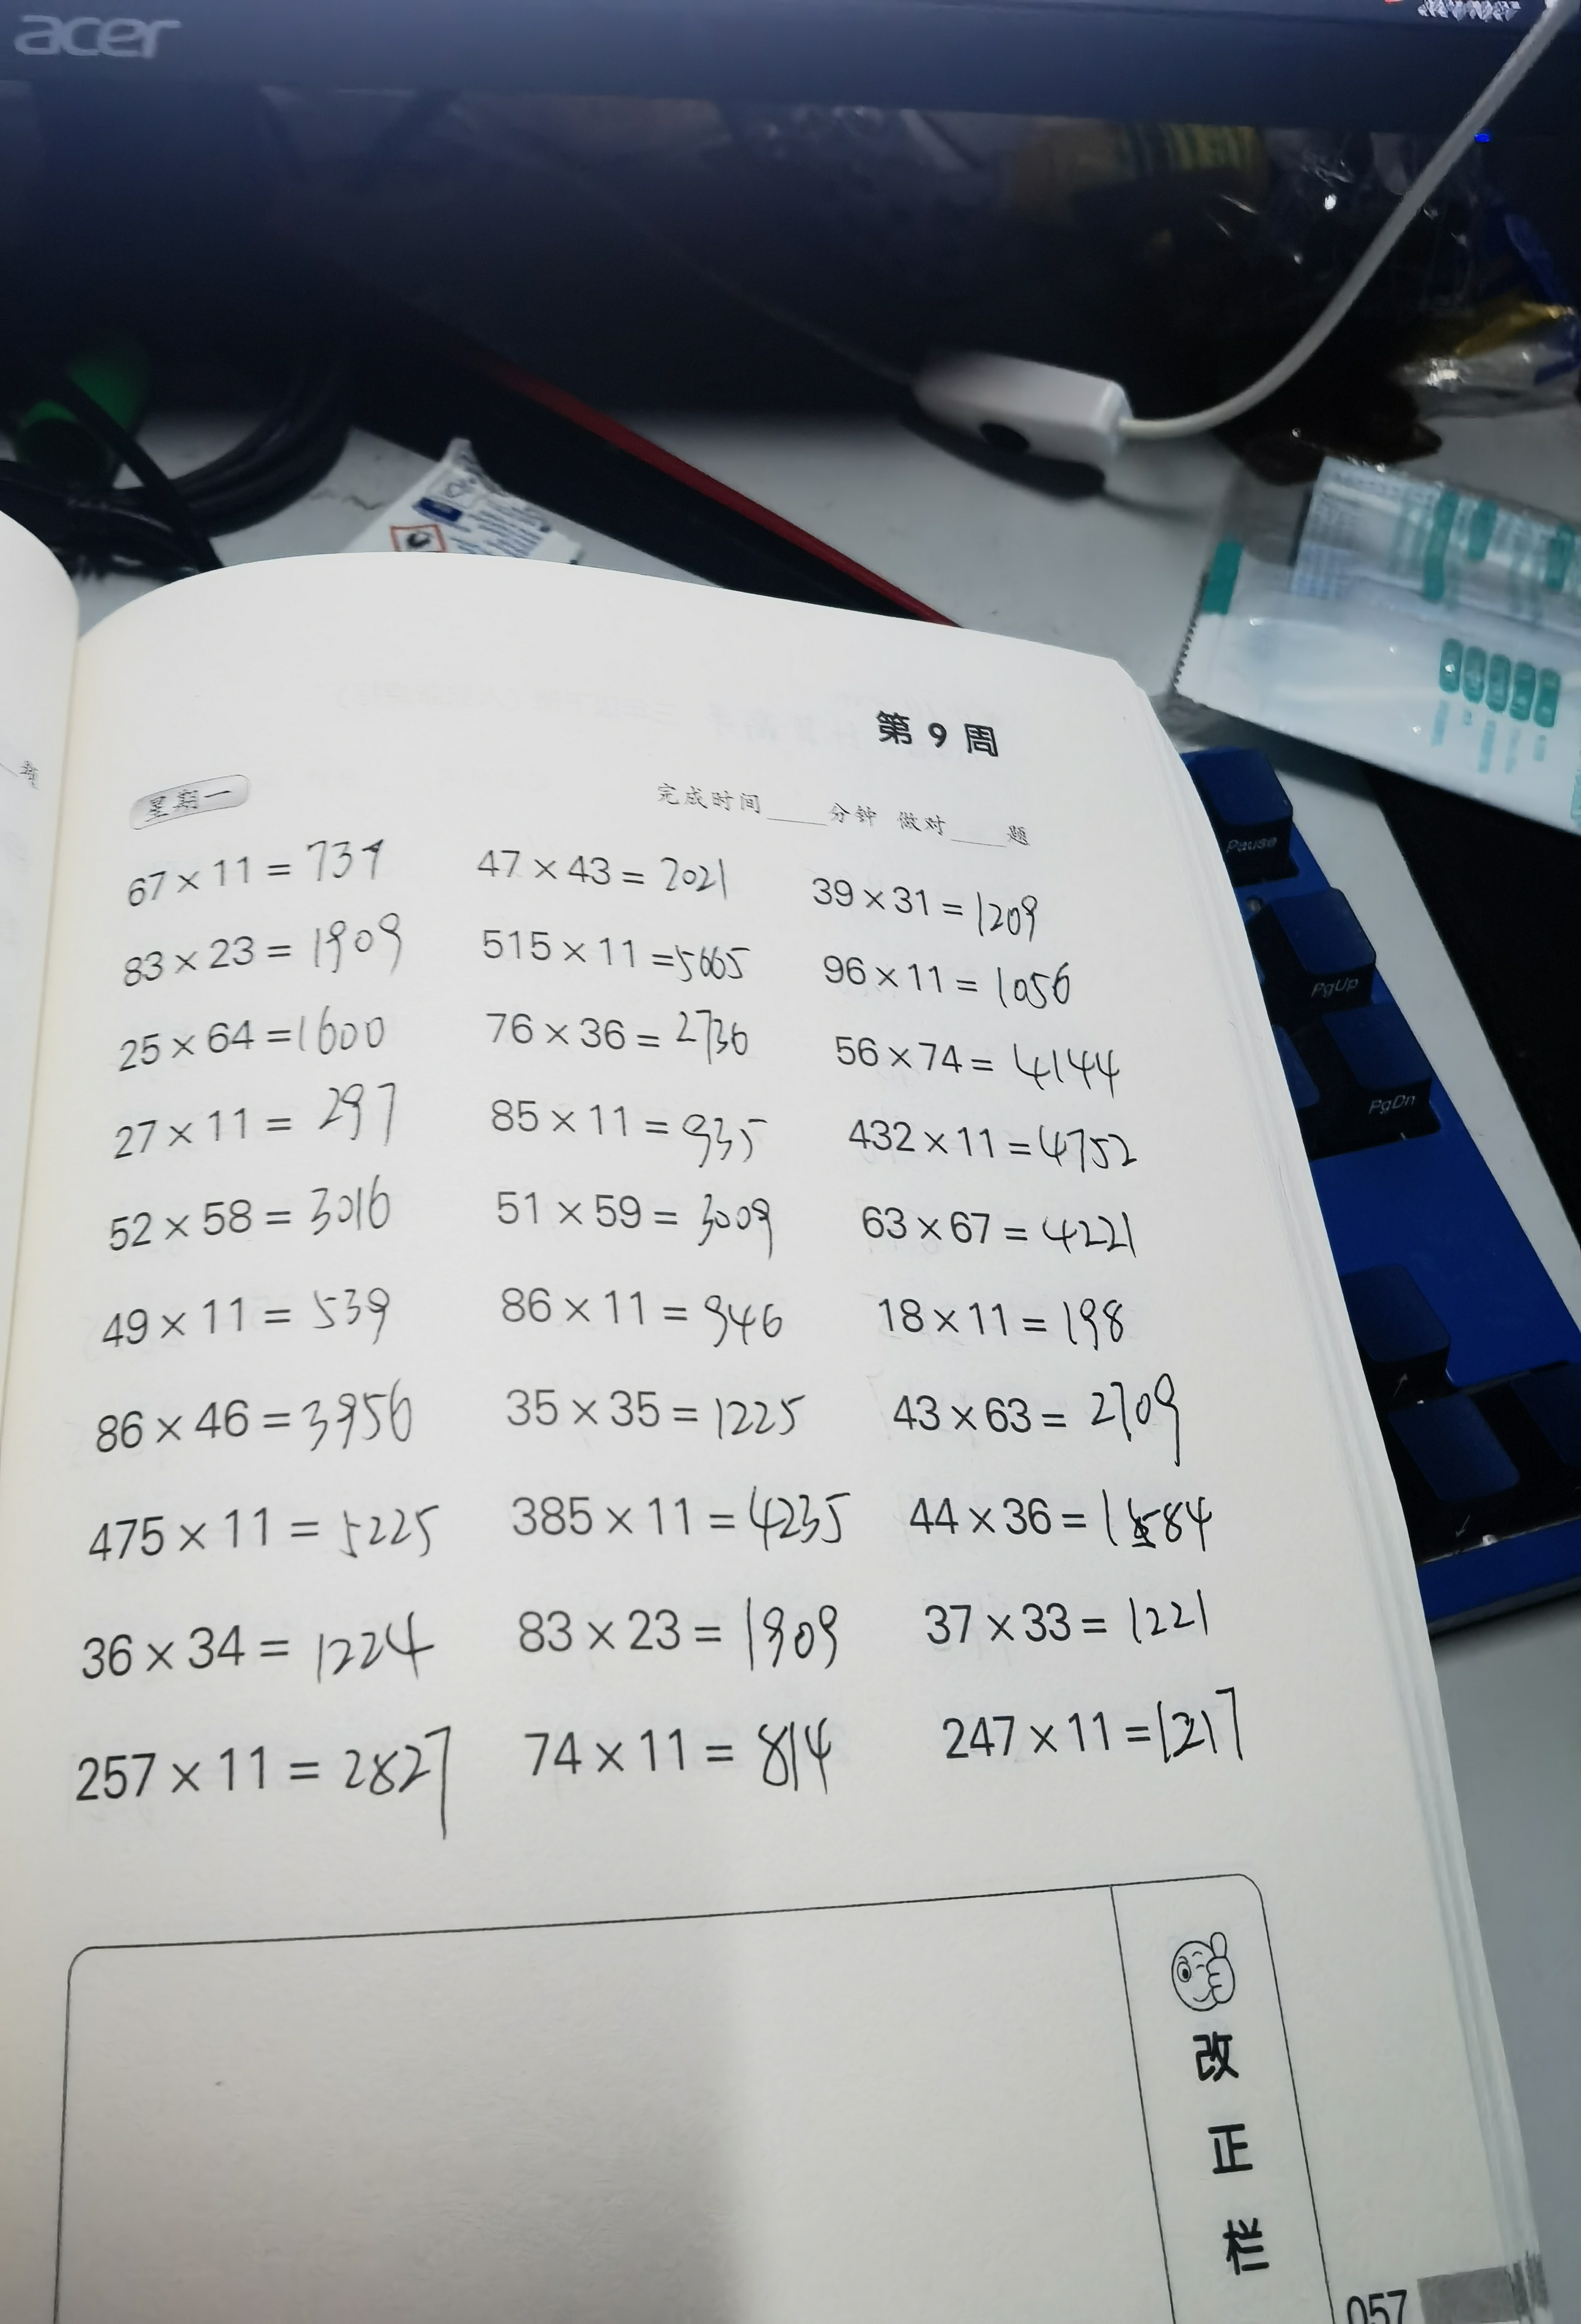equation: (60, 1713, 519, 1821), (491, 1458, 859, 1571), (930, 1673, 1263, 1789), (90, 1362, 431, 1473), (76, 1597, 462, 1691), (519, 1705, 859, 1807), (888, 1369, 1239, 1466), (92, 1486, 448, 1579), (78, 1170, 416, 1265), (483, 1359, 822, 1454), (473, 1075, 782, 1177), (480, 1262, 815, 1355), (88, 1263, 406, 1361), (475, 1170, 798, 1263), (889, 1475, 1219, 1565), (491, 1599, 863, 1678), (452, 900, 769, 985), (97, 1078, 411, 1163), (836, 1189, 1159, 1271), (806, 849, 1090, 941), (801, 939, 1115, 1020), (461, 824, 762, 905), (111, 819, 409, 900), (95, 993, 432, 1062), (835, 1027, 1149, 1099), (912, 1583, 1226, 1655), (113, 918, 418, 992), (859, 1286, 1170, 1359), (455, 1001, 778, 1068), (831, 1112, 1165, 1175)
